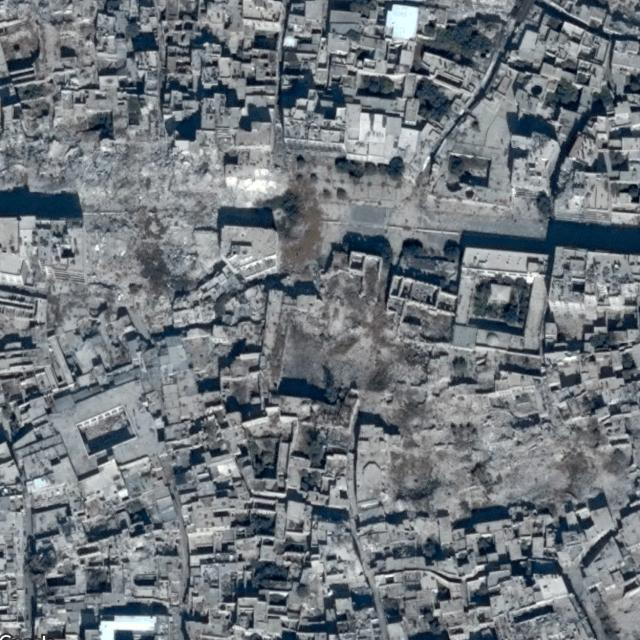damaged_building: (0, 113, 280, 334), (378, 335, 634, 517)
